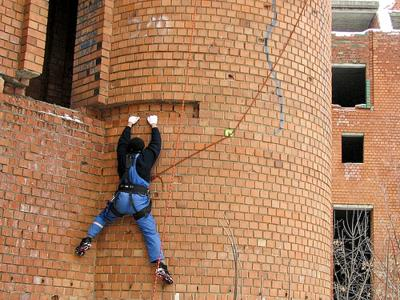person: (74, 115, 174, 285)
